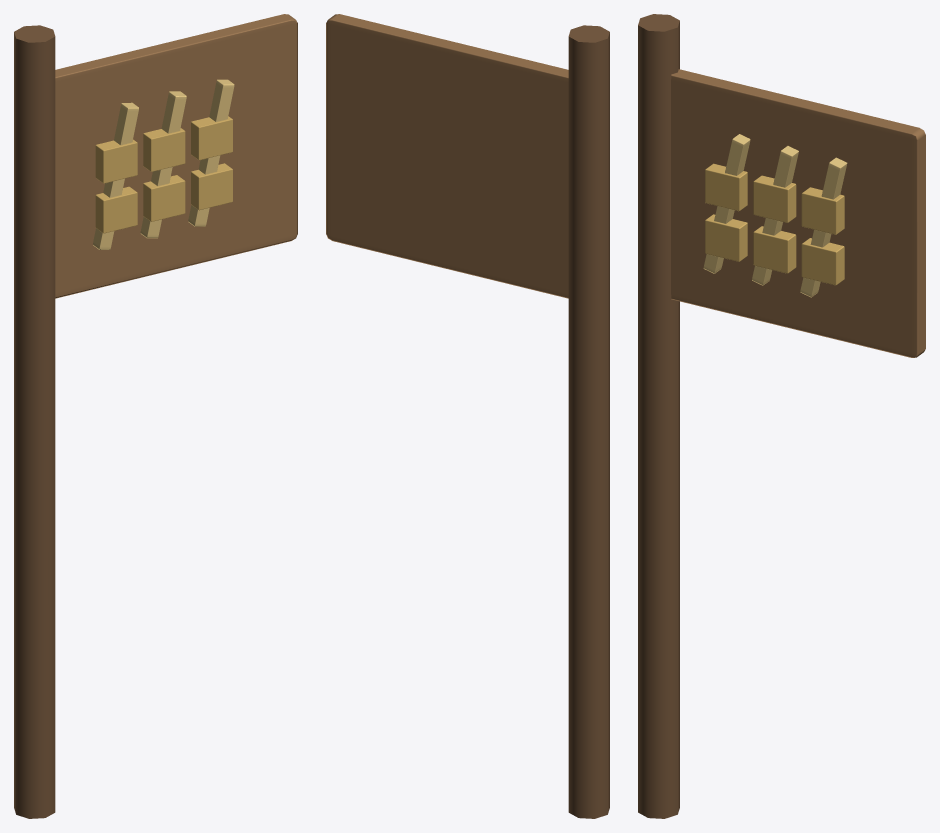
Rendered from wheatbanner-0.glb.
3 renders of one model, left to right at view 1: azimuth 30°, elevation 25°; view 2: azimuth 150°, elevation 25°; view 3: azimuth 330°, elevation 25°, orthographic.
Visible parts, largest first — view 1: wheatbanner-0-0; view 2: wheatbanner-0-0; view 3: wheatbanner-0-0.
Boxes of the visible parts, bbox=[...] form: wheatbanner-0-0: bbox=[14, 14, 297, 818]; wheatbanner-0-0: bbox=[326, 14, 609, 818]; wheatbanner-0-0: bbox=[638, 14, 925, 818].
Size of the model in its own units: 0.525 by 1.4 by 0.0735.
